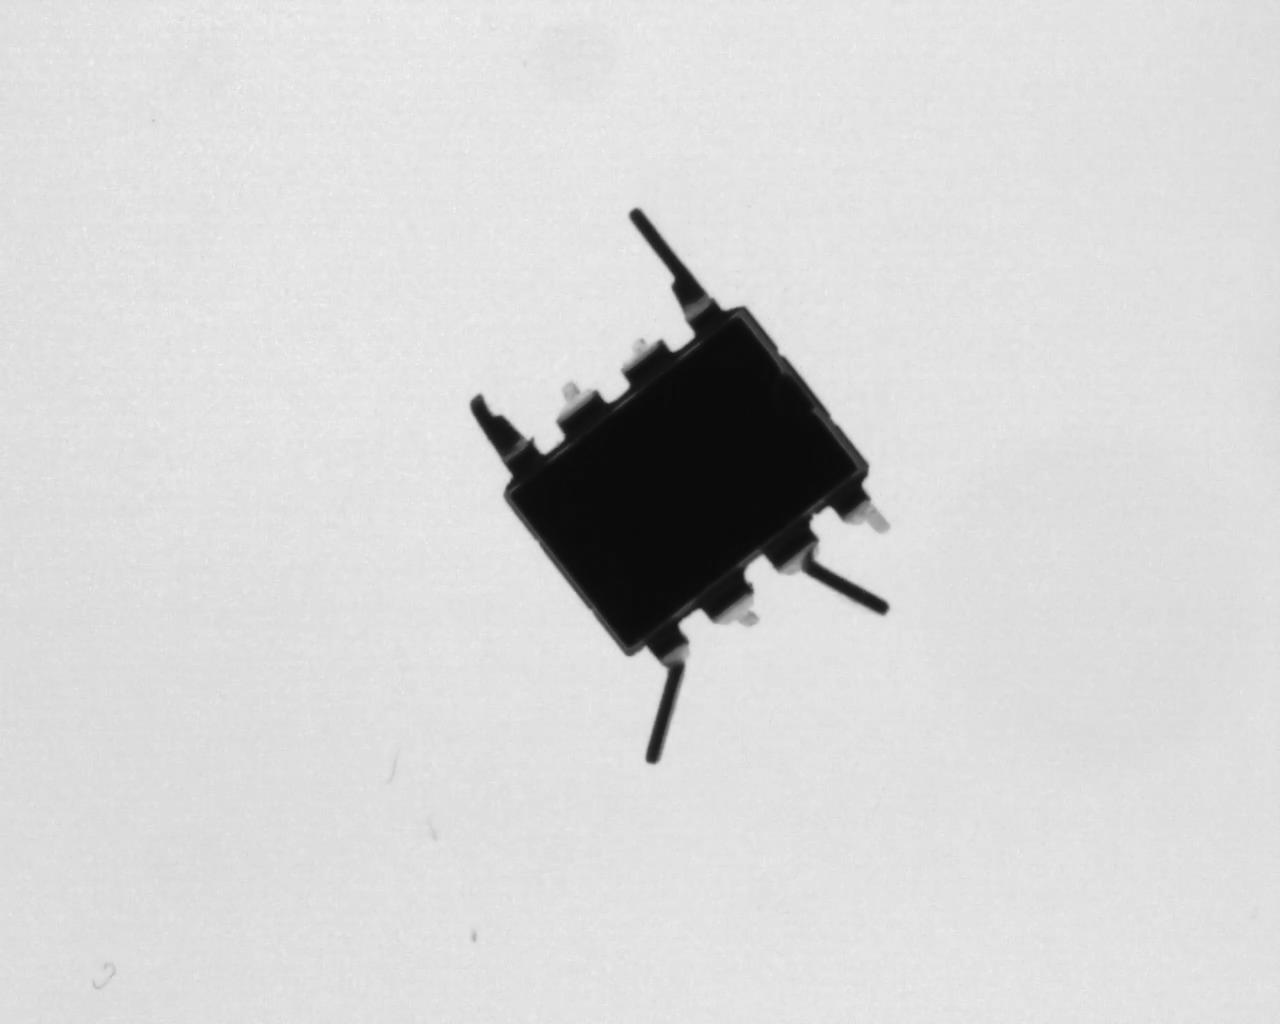Leg: (629, 208, 724, 329), (767, 526, 892, 614), (645, 621, 691, 765), (469, 394, 540, 476), (698, 568, 764, 628), (830, 481, 891, 533), (555, 379, 604, 434), (620, 333, 667, 380)
